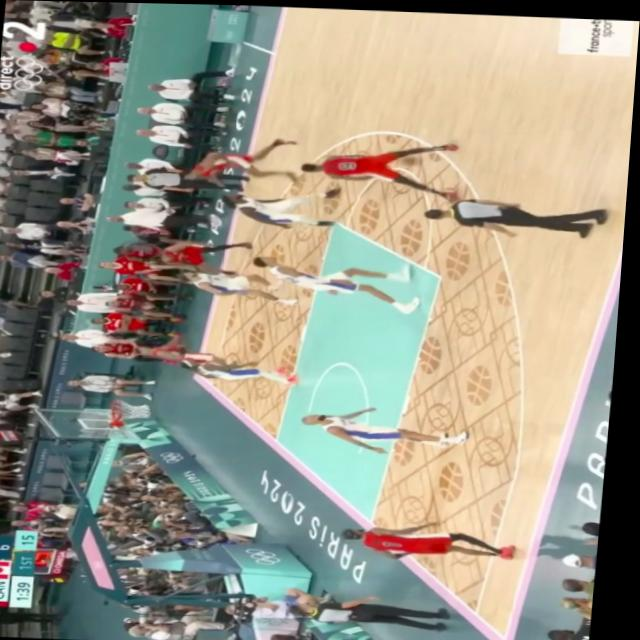ball_handler: (303, 135, 462, 193)
